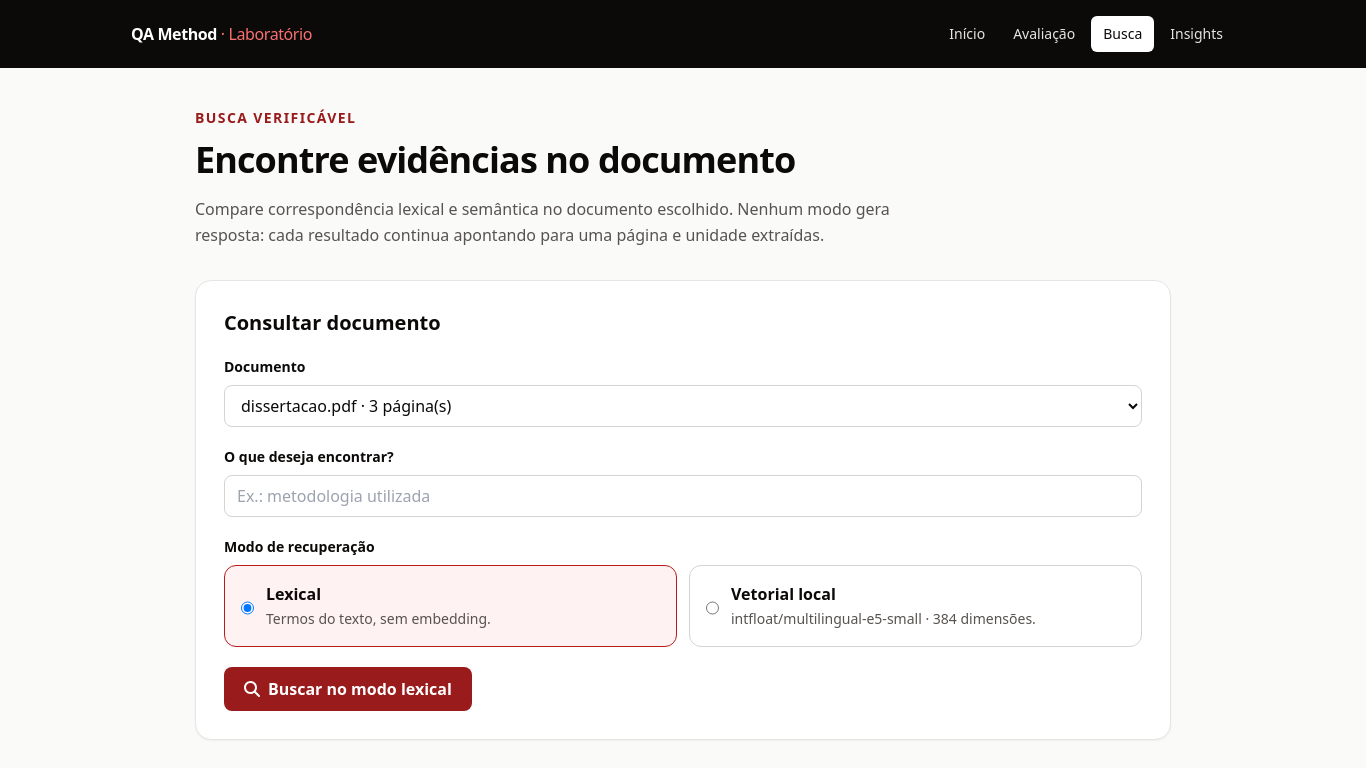
Search › consulta um documento e exibe evidência lexical com página
The image size is (1366, 768).
Type "  metodologia  " into the search field labelled "O que deseja encontrar?" at (683, 496), box [224, 475, 1142, 517]
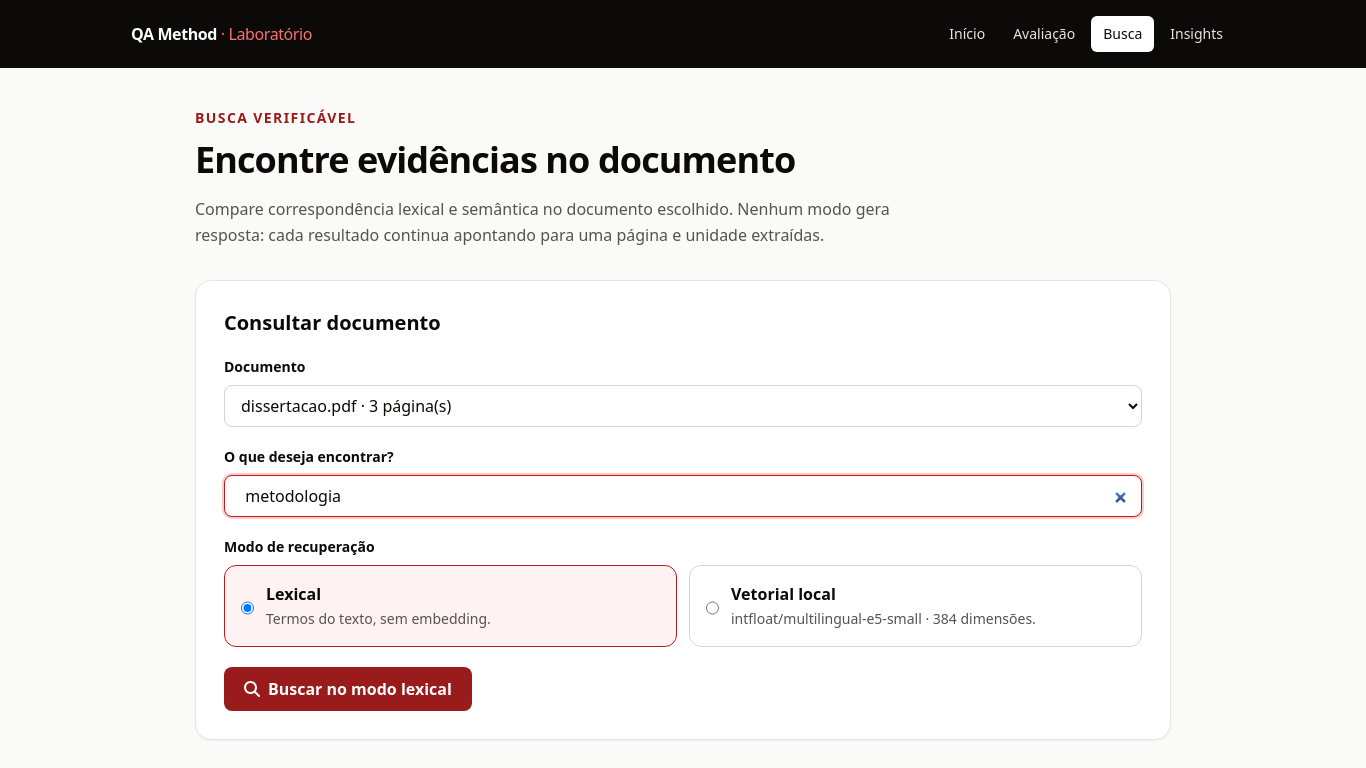
Click the button "Buscar no modo lexical" at (348, 689), box [224, 667, 472, 711]
(page scrolled)
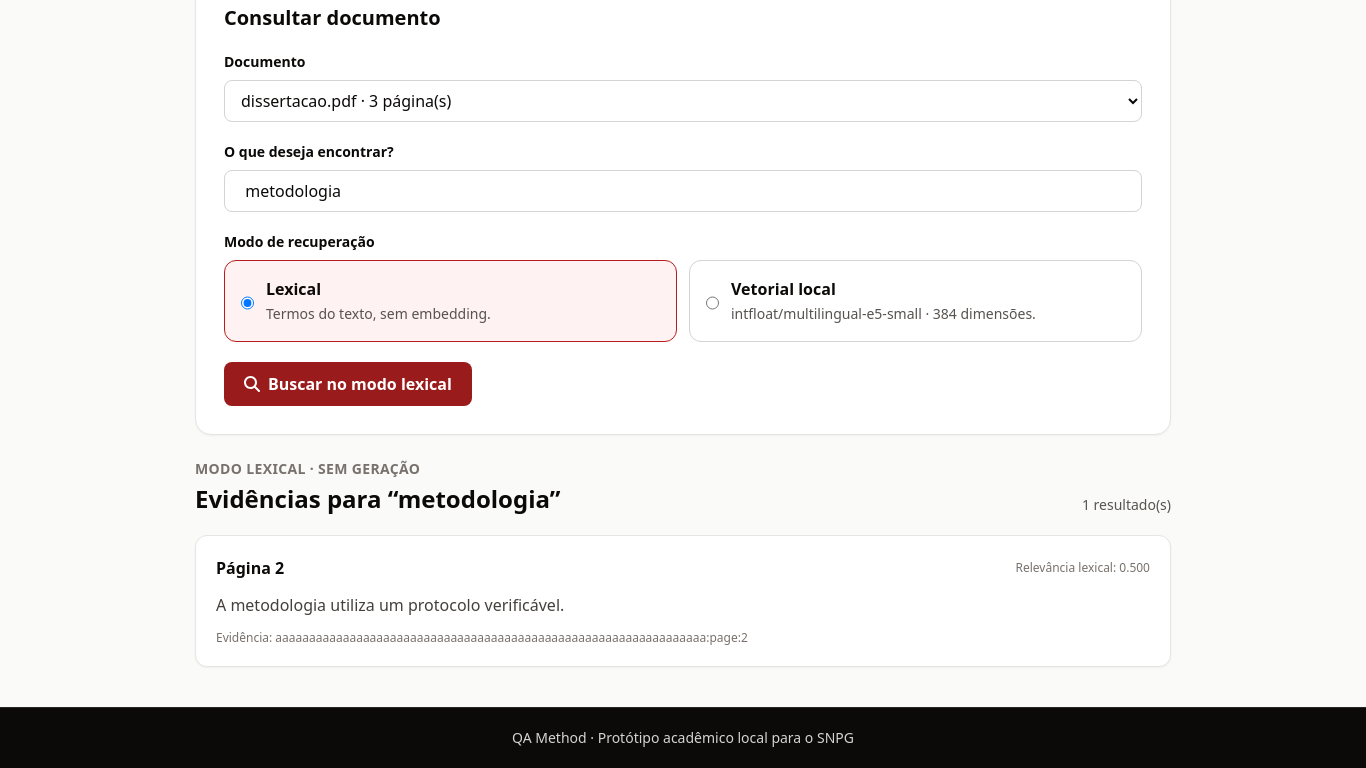
Result: the heading "Página 2" is shown at [216, 556, 284, 580]
Result: the text "A metodologia utiliza um protocolo verificável." is shown at [216, 594, 564, 616]
Result: the text "Modo lexical · sem geração" is shown at [195, 459, 420, 478]
